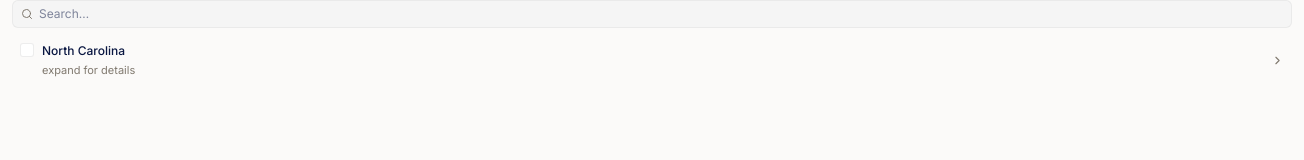
Test case: OnboardingTreePicker lazy loadChildren › caches results — collapsing and re-expanding does not call loadChildren again
The width and height of the screenshot is (1304, 160).
Click the button named "Show details" at (1277,60), box [1262,36,1292,84]
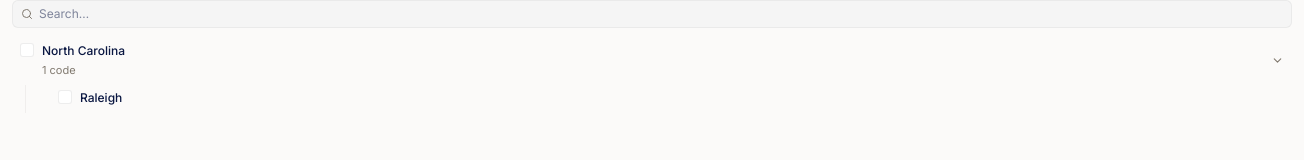
Now the text "Raleigh" is shown, box [80,88,122,106]
Click the button named "Hide details" at (1277,60), box [1262,36,1292,84]
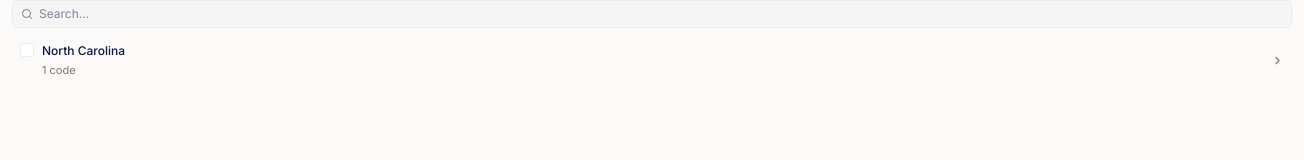
Click the button named "Show details" at (1277,60), box [1262,36,1292,84]
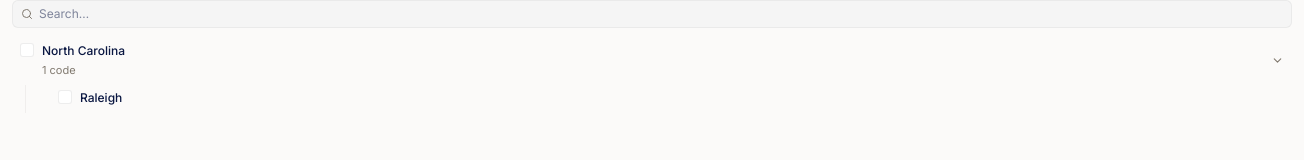
Now the text "Raleigh" is shown, box [80,88,122,106]
